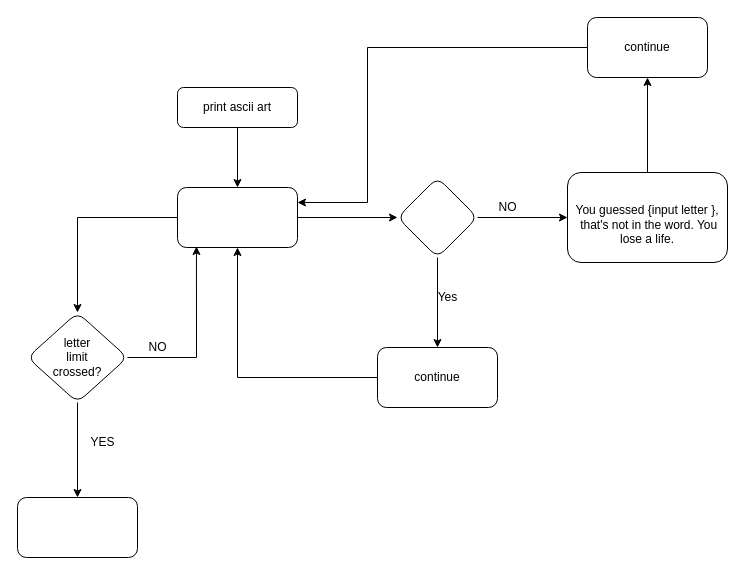
Image size: 745x575. Some labels were removed from this diagram. The shapes that lost their labels are listed below. From the top down, each one's box as (x1, y1, x2, y2) in pixels, then its label:
(176, 186, 298, 248): input == guess a letter
(396, 176, 478, 258): guess = correct?
(16, 496, 138, 558): print You lose game ends
